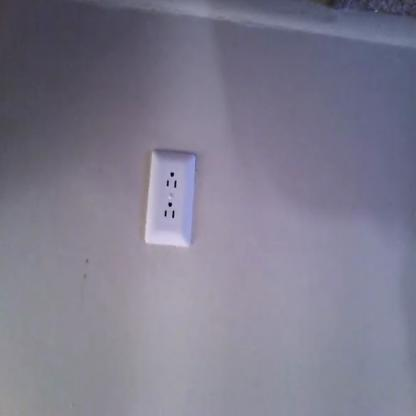OUTLET: (144, 152, 197, 247)
